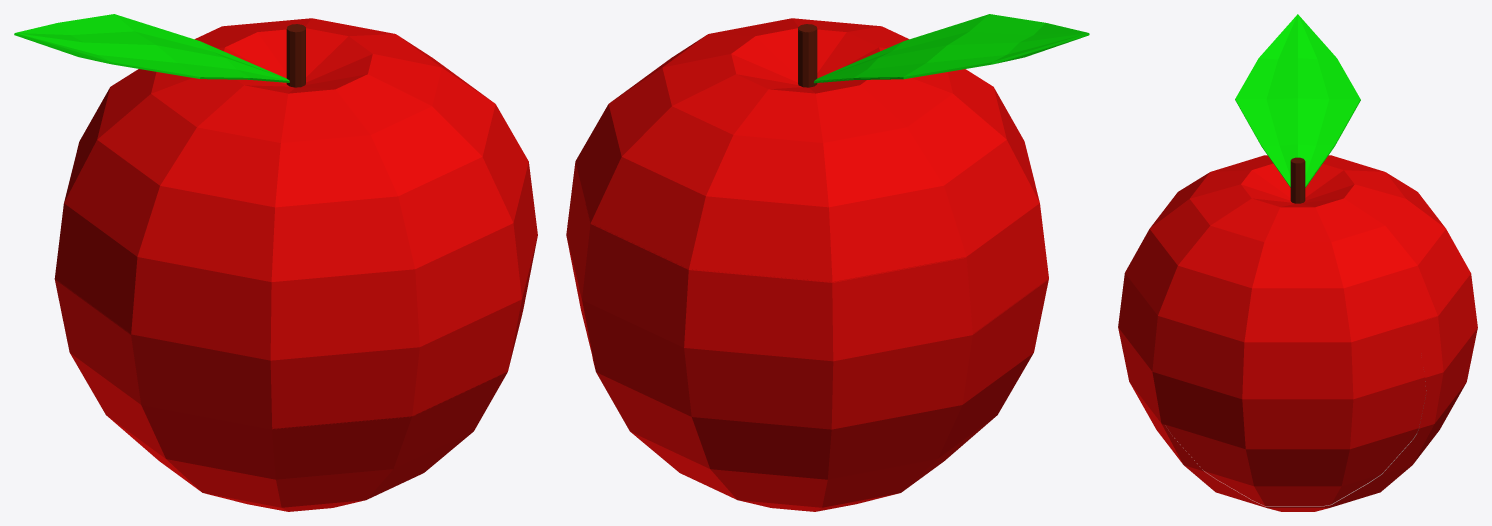
The model's file is apple.fbx.
3 views of the same model, side by side, from view 1: azimuth 30°, elevation 25°; view 2: azimuth 150°, elevation 25°; view 3: azimuth 270°, elevation 25° (orthographic). The views are drawn at different scales.
Parts seen in each view (by area): view 1: Cylinder, Sphere.001, Sphere.003, Sphere.004; view 2: Cylinder, Sphere.001, Sphere.003; view 3: Cylinder, Sphere.001, Sphere.003.
Boxes of the visible parts, x1,y1,x2,y2 form: Cylinder: (14, 14, 537, 429); Sphere.001: (14, 34, 507, 511); Sphere.003: (201, 78, 410, 507); Sphere.004: (200, 78, 411, 499); Cylinder: (566, 14, 1089, 349); Sphere.001: (578, 28, 1089, 511); Sphere.003: (584, 77, 903, 507); Cylinder: (1118, 14, 1470, 506); Sphere.001: (1130, 161, 1477, 511); Sphere.003: (1173, 99, 1439, 506).
Bounding box in the file's own units: 219 × 223 × 193.
